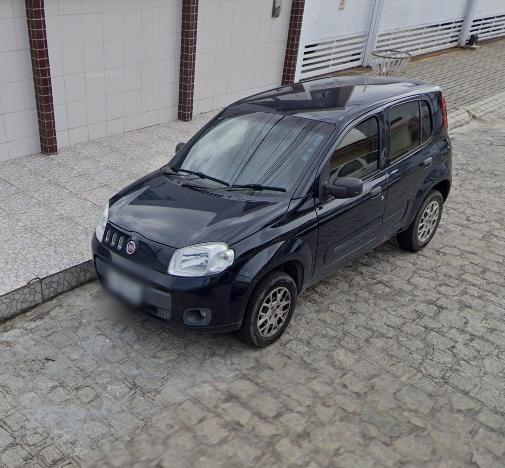car: (89, 72, 455, 352)
